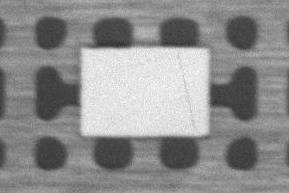DIE_CRACK: (267, 36, 289, 86)
